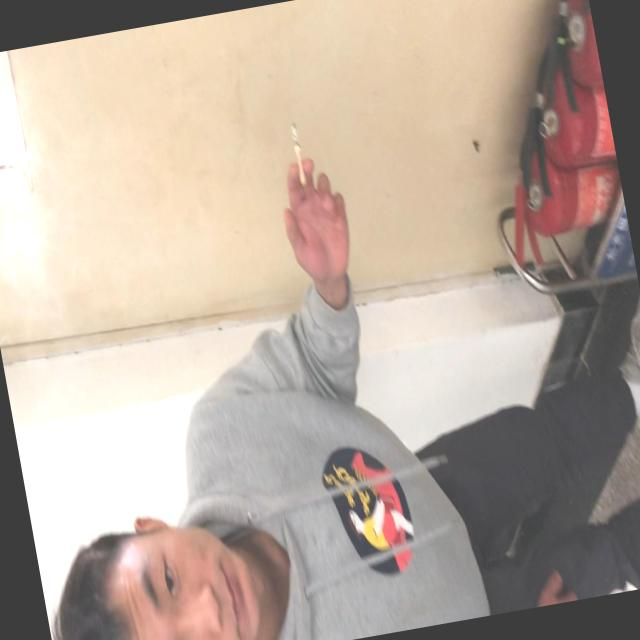cigarette: (286, 115, 311, 188)
